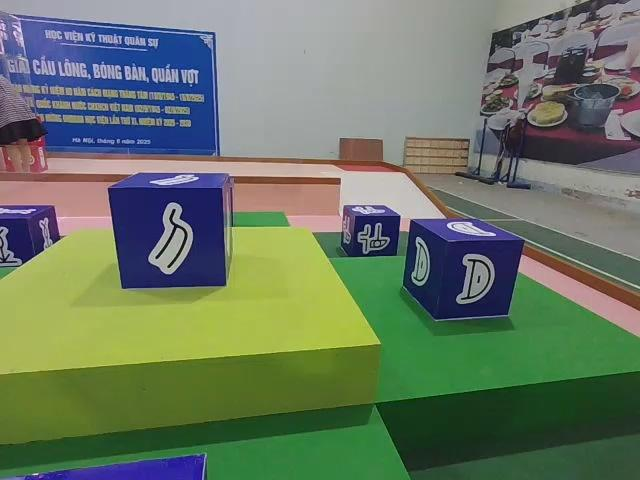R2 Real Blue: (107, 172, 237, 290), (405, 219, 526, 324), (0, 204, 60, 270), (339, 204, 400, 257)
